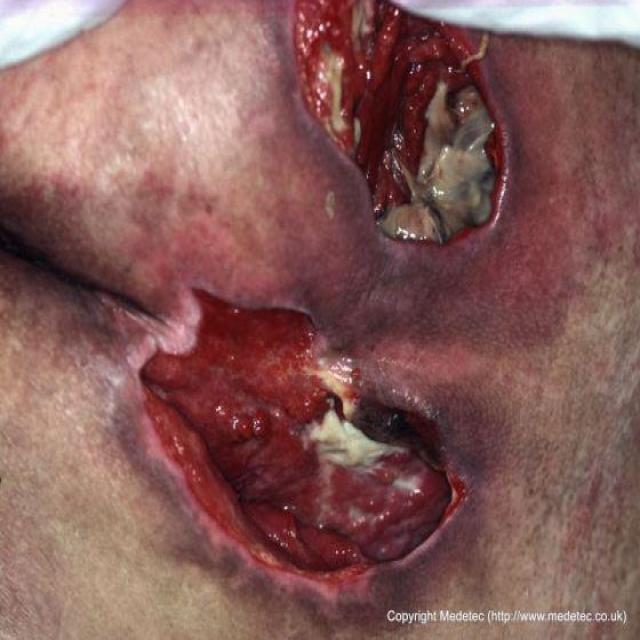stage-4: (140, 291, 460, 576), (294, 2, 502, 243)
